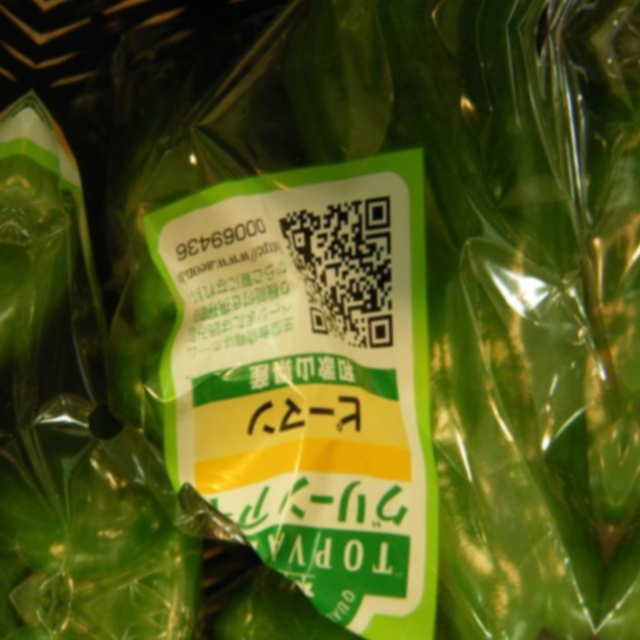qr-code: (259, 180, 415, 353)
